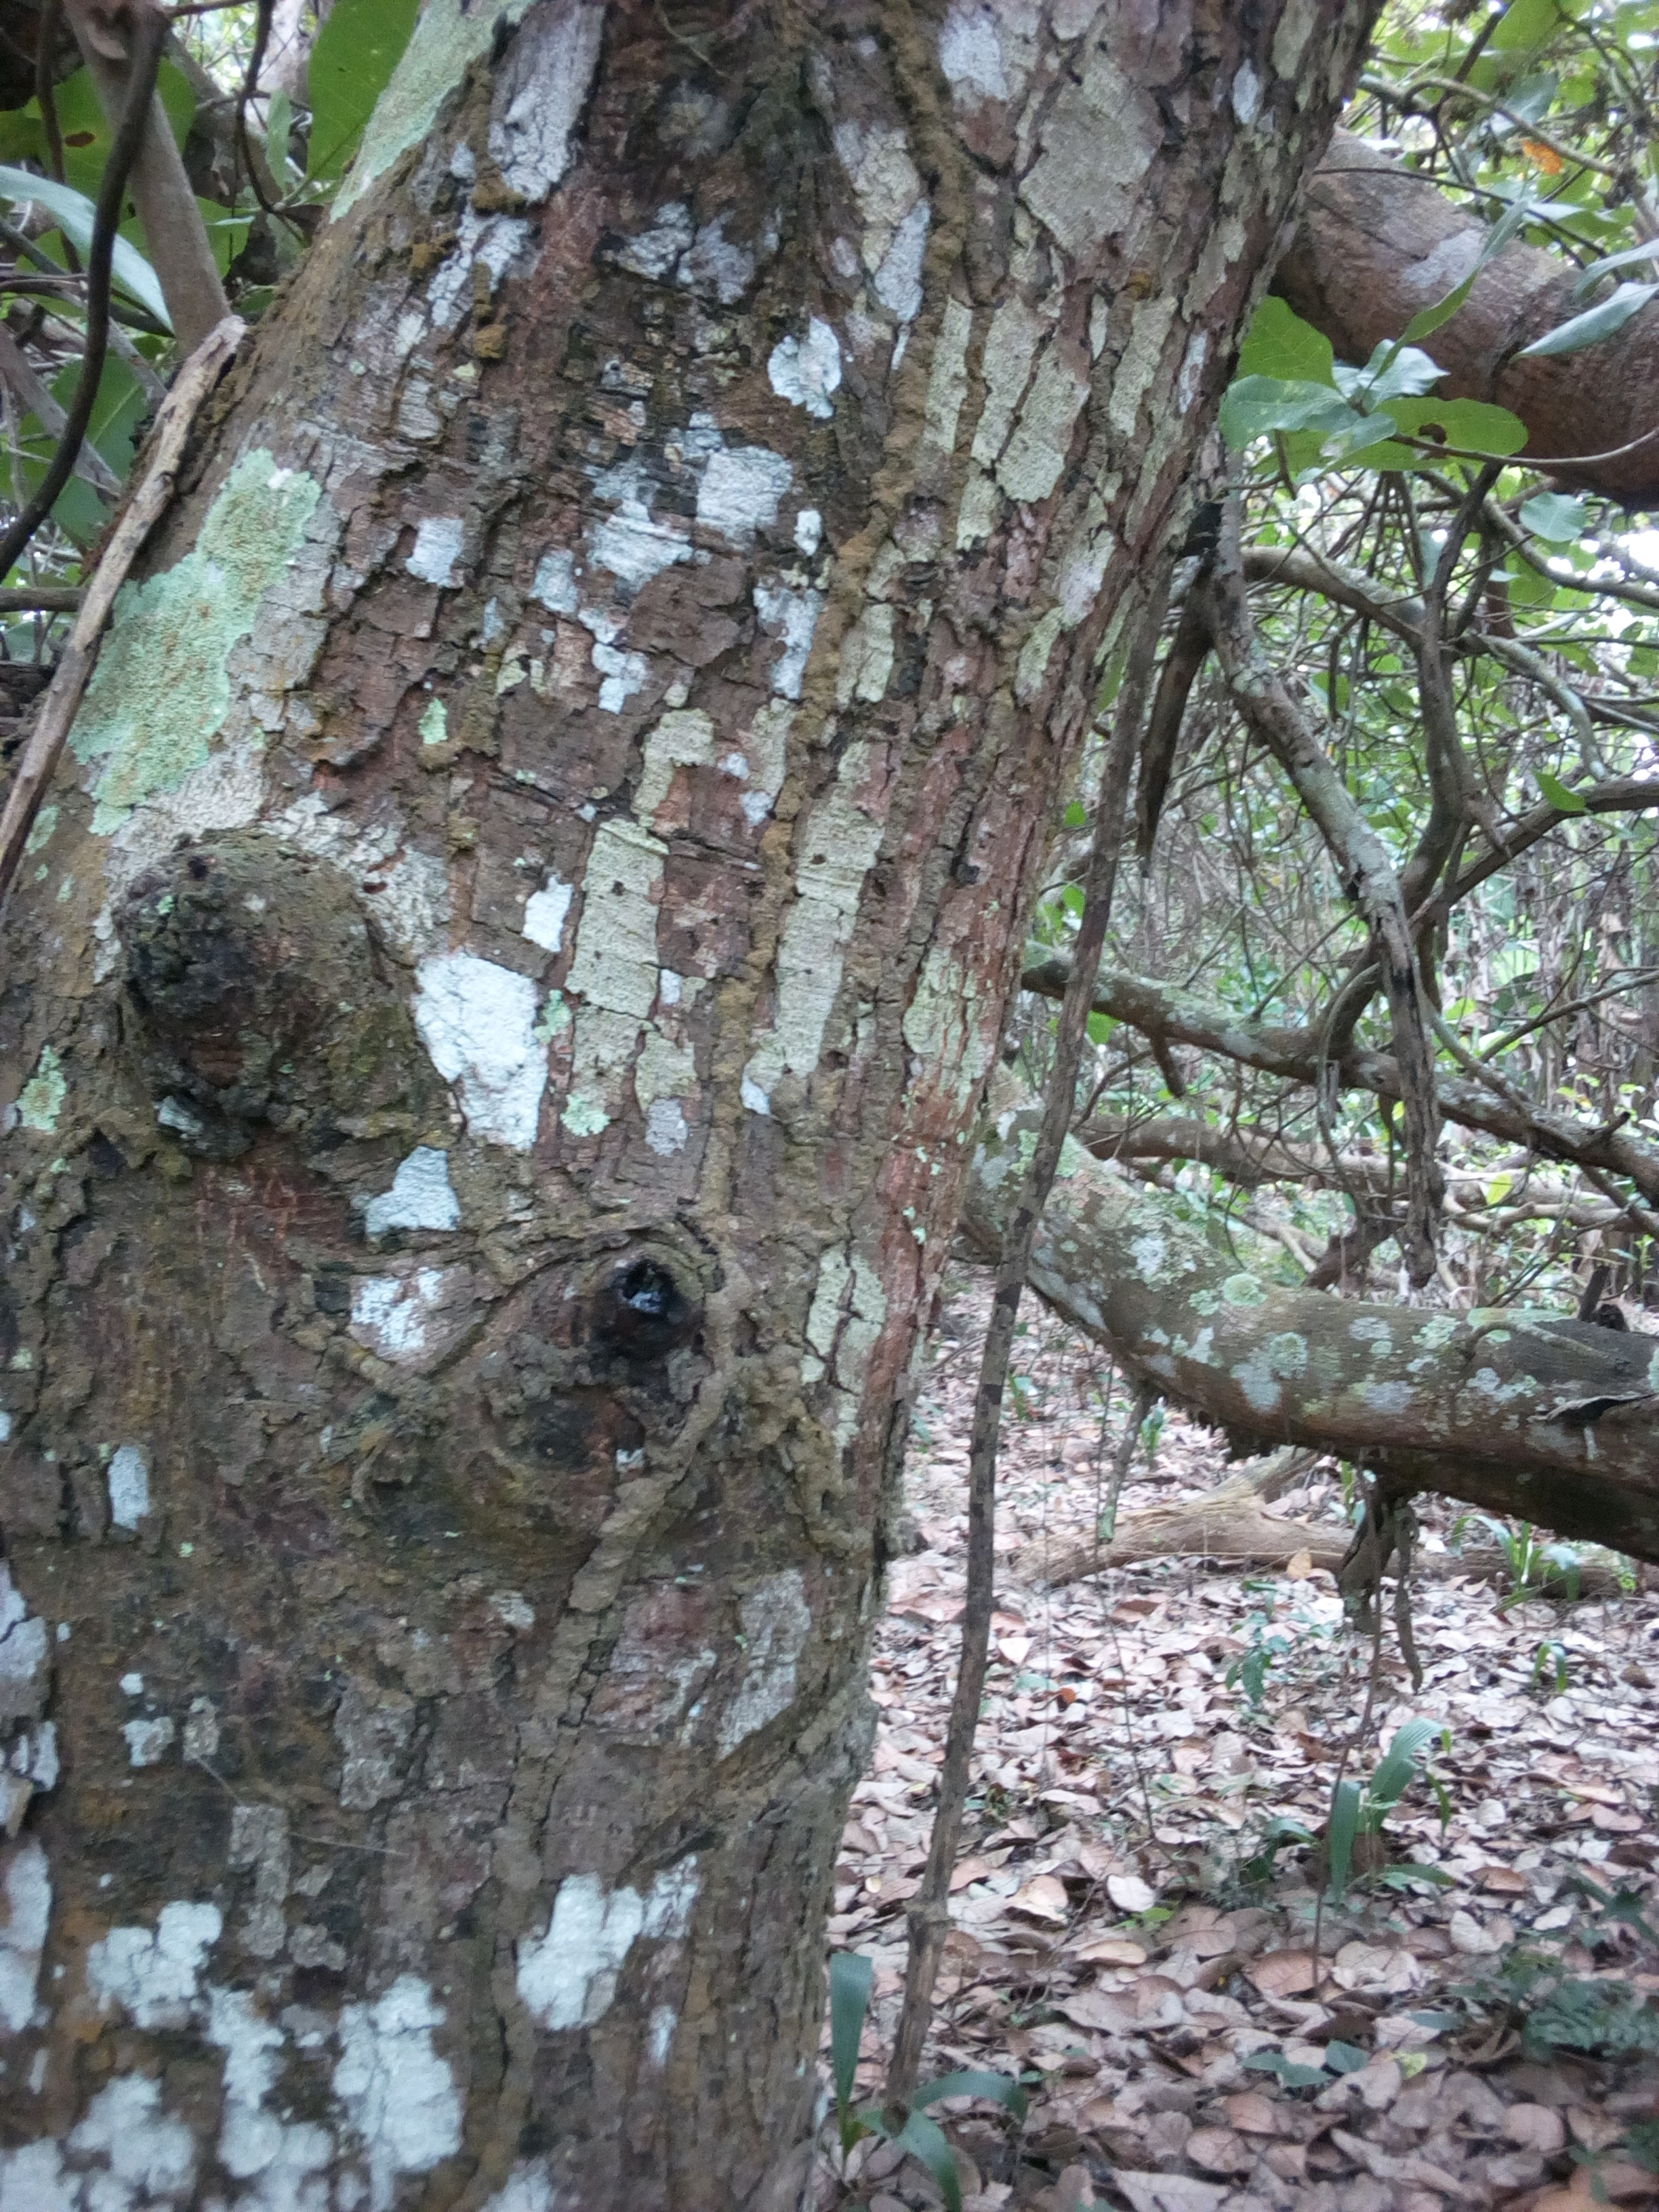Termites: (166, 1130, 854, 2212), (680, 16, 988, 1116)
